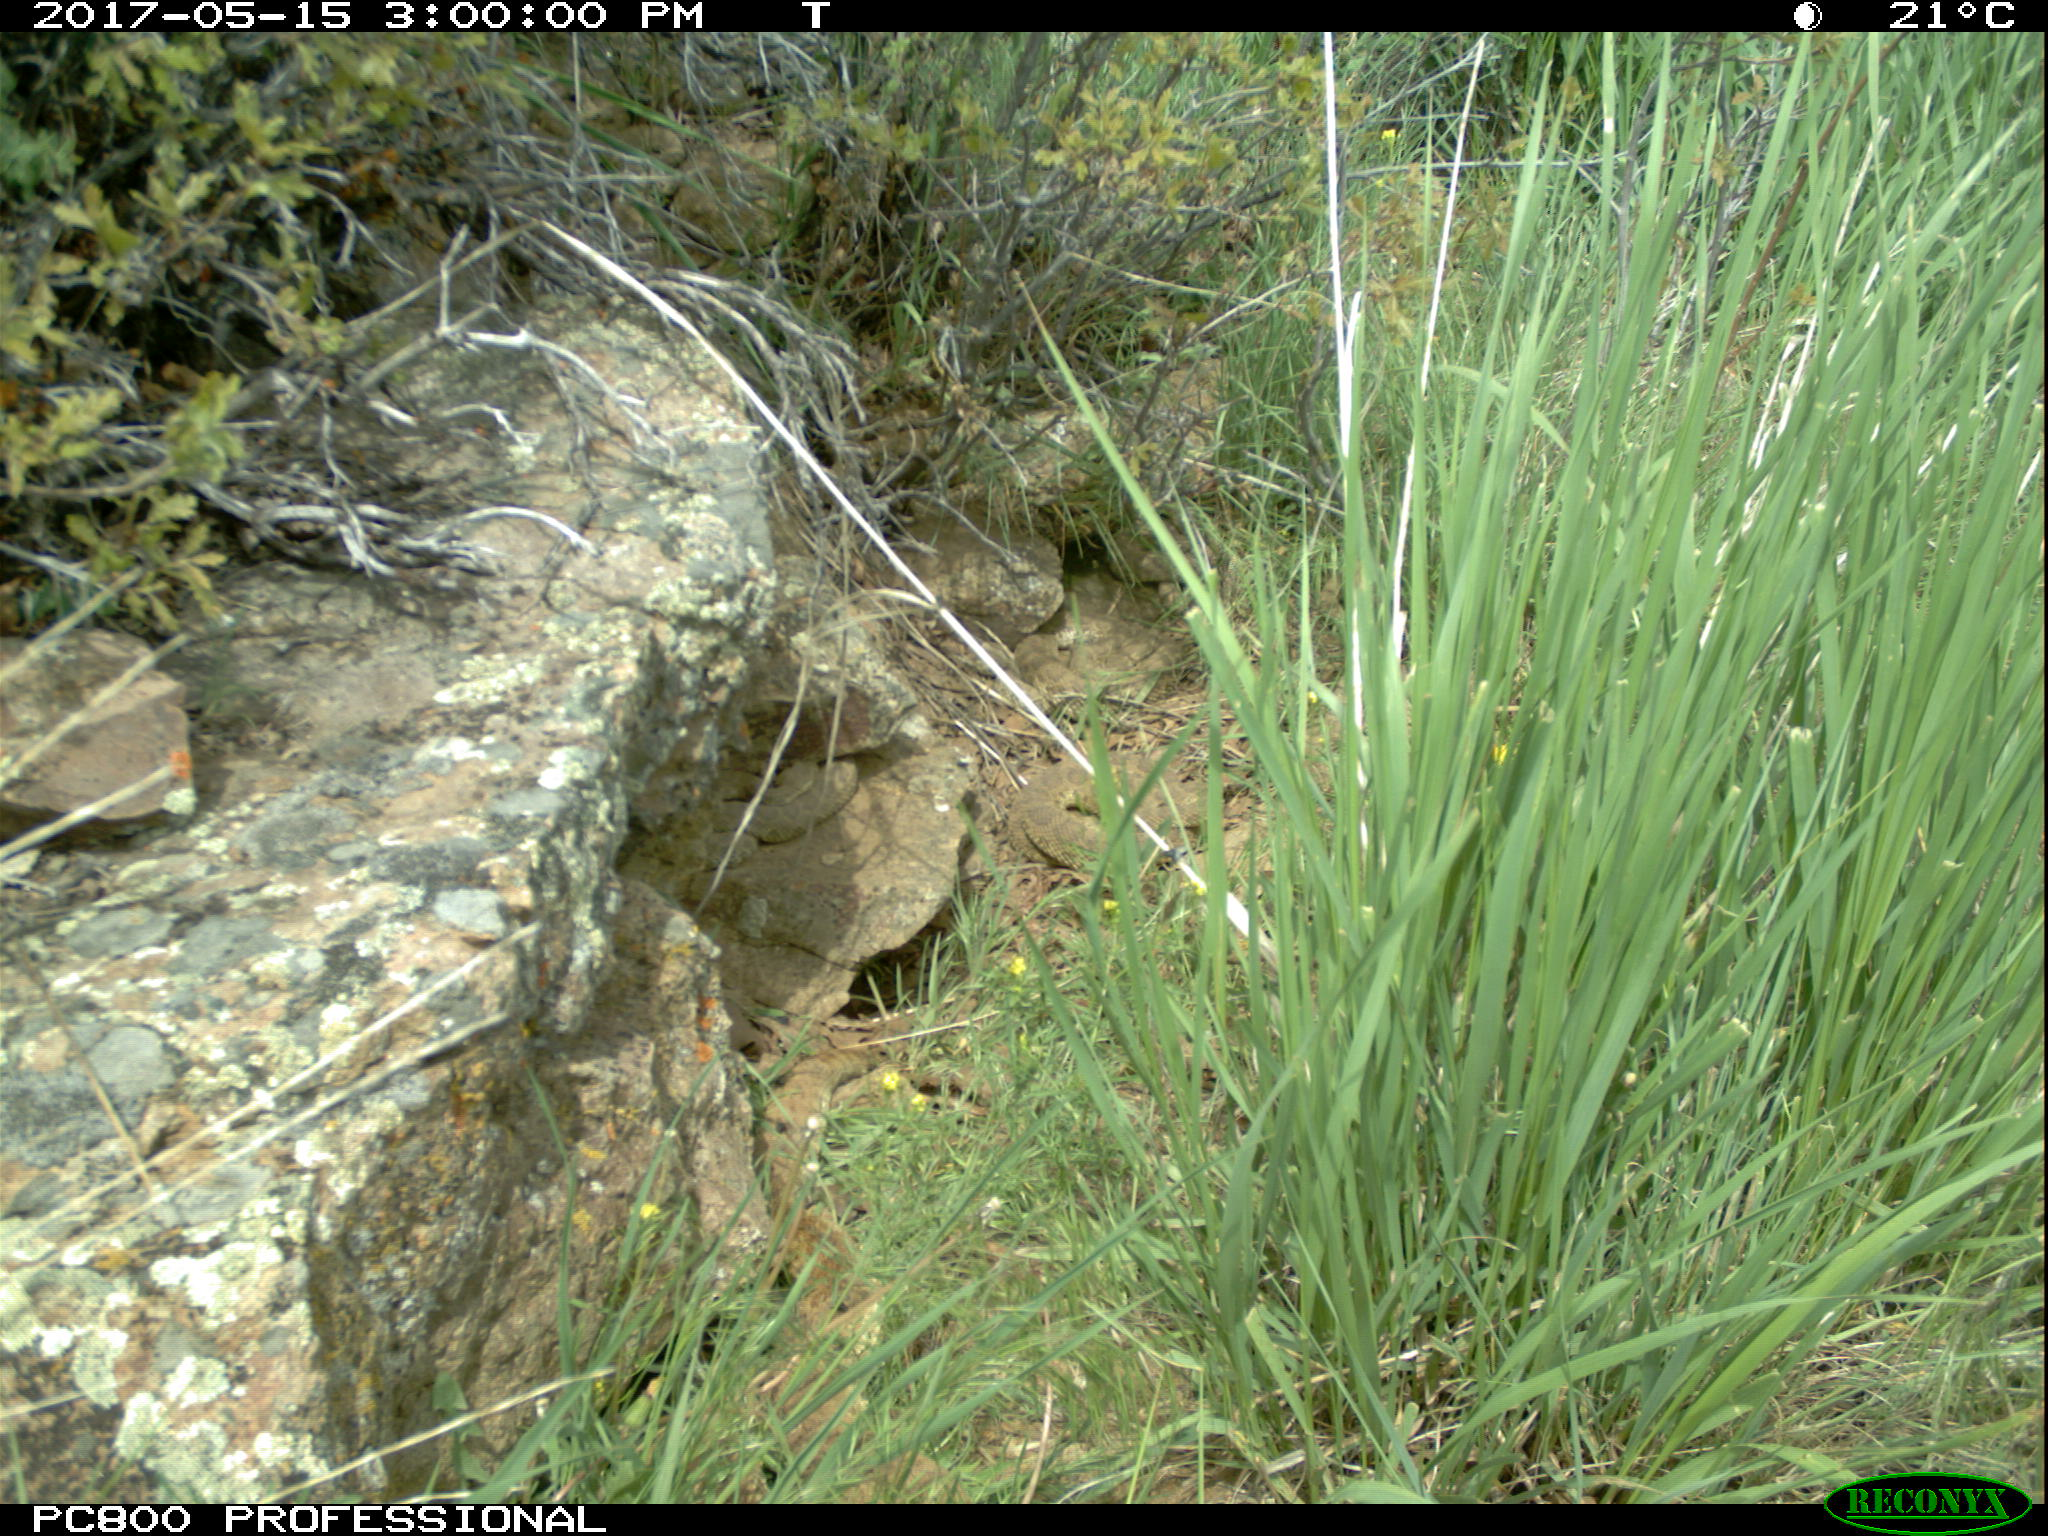snake: (761, 1050, 856, 1455), (1013, 758, 1214, 878), (668, 140, 818, 260), (705, 760, 861, 870), (1063, 579, 1172, 703), (1014, 623, 1168, 705), (548, 97, 685, 169)
